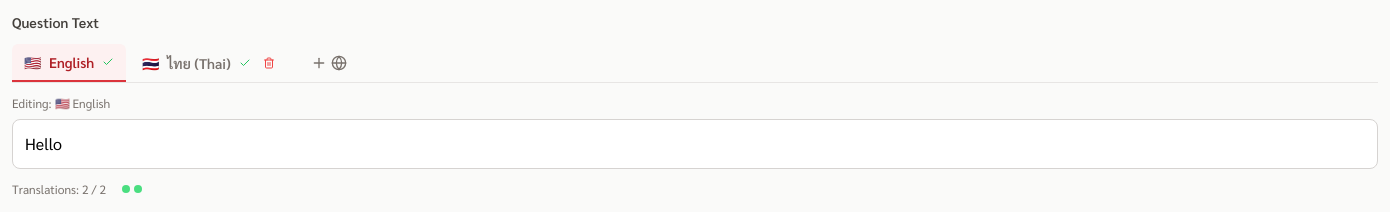
Test: MultiLanguageEditor › Language Tab Switching › should display content for active tab
Check: the field showing "Hello" is shown, box [12,119,1378,169]
Click the button "🇹🇭 ไทย (Thai)": (211, 63) [130,45,291,81]
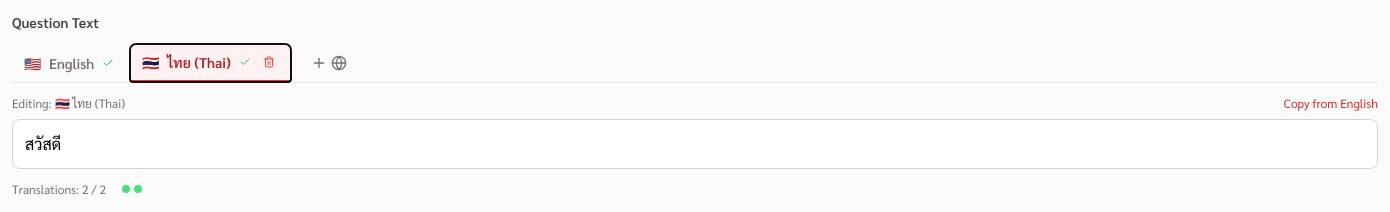
Check: the field showing "สวัสดี" is shown, box [12,119,1378,169]
